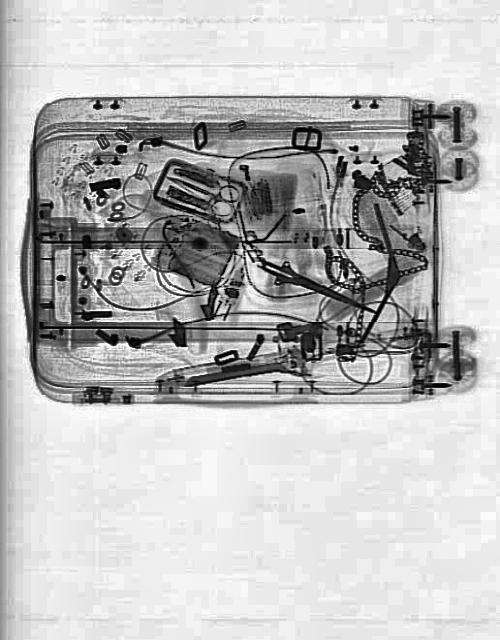Knife: (252, 249, 382, 323)
Scissors: (162, 160, 243, 222)
